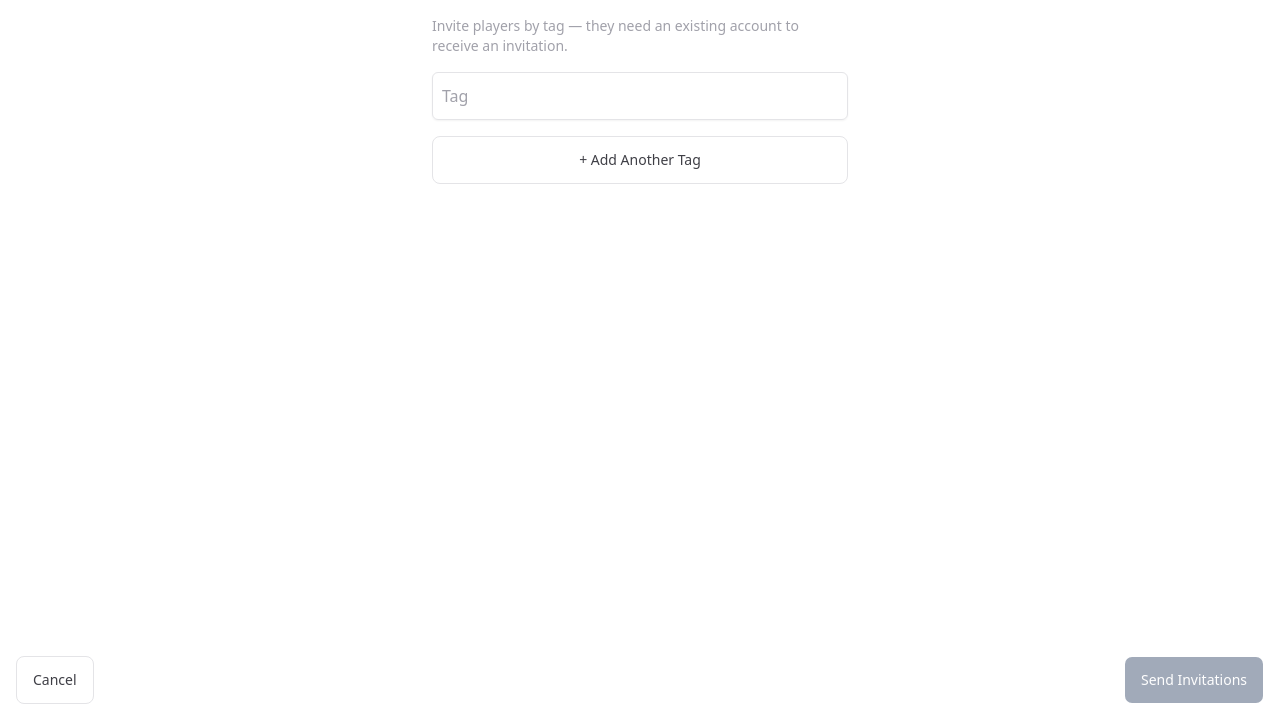
InvitePlayersPage › as the organiser › adds and removes tag rows, only sending non-empty ones
The width and height of the screenshot is (1280, 720).
Click the button "+ Add Another Tag" at (640, 160), box [432, 136, 848, 184]
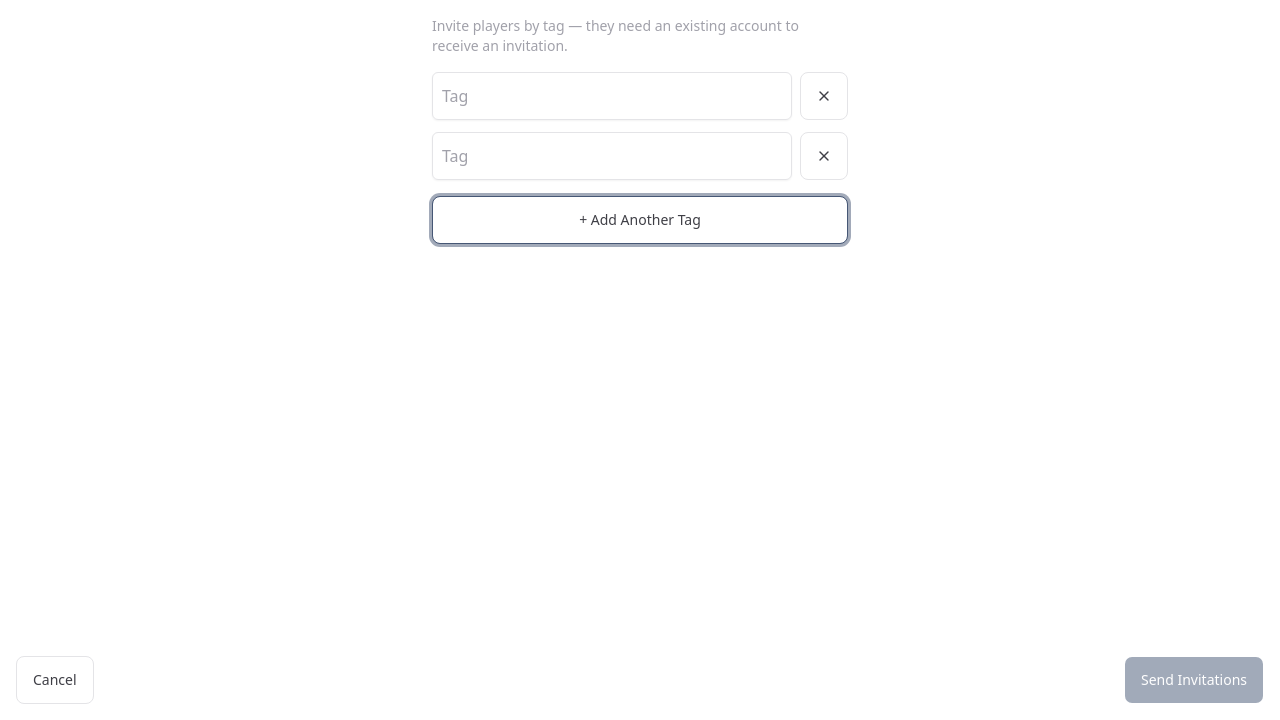
Expected: the number of fields labelled "Tag" is 2
Type "monkey-duster" into the 1st field labelled "Tag" at (612, 96), box [432, 72, 792, 120]
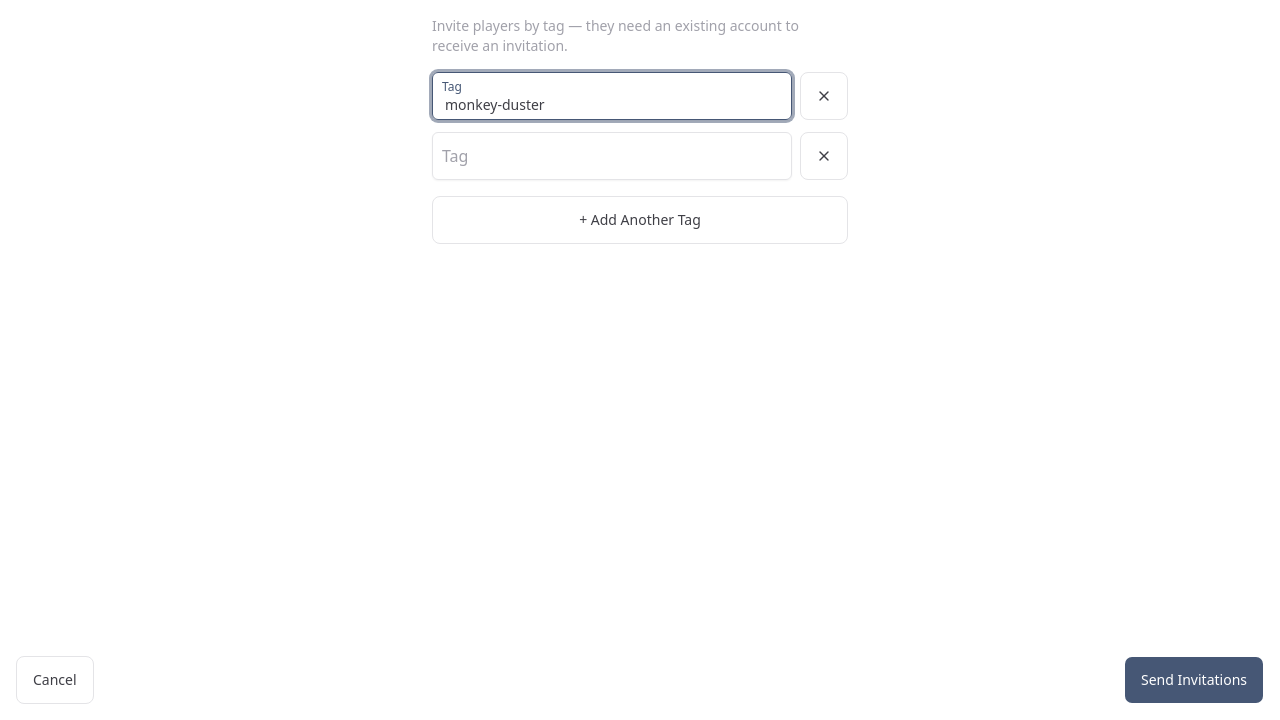
Click the button "Send Invitations" at (1194, 680), box [1124, 656, 1264, 704]
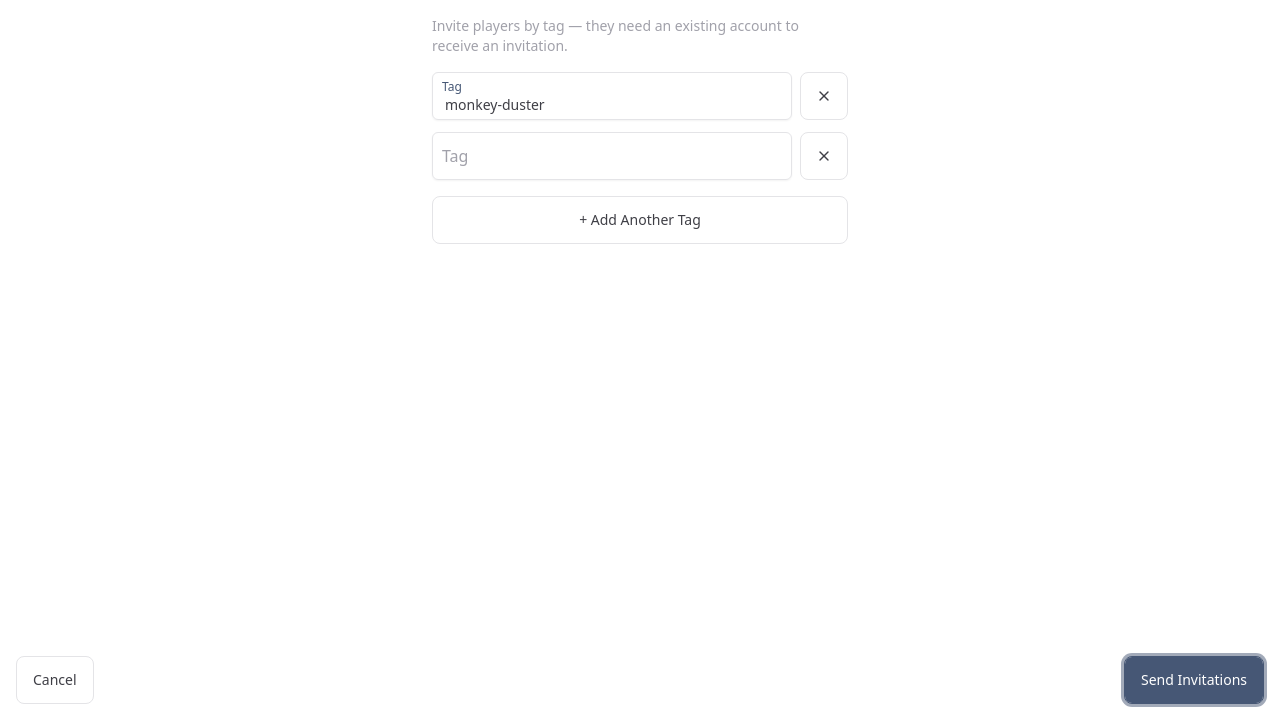
Click the button "+ Add Another Tag" at (640, 220), box [432, 196, 848, 244]
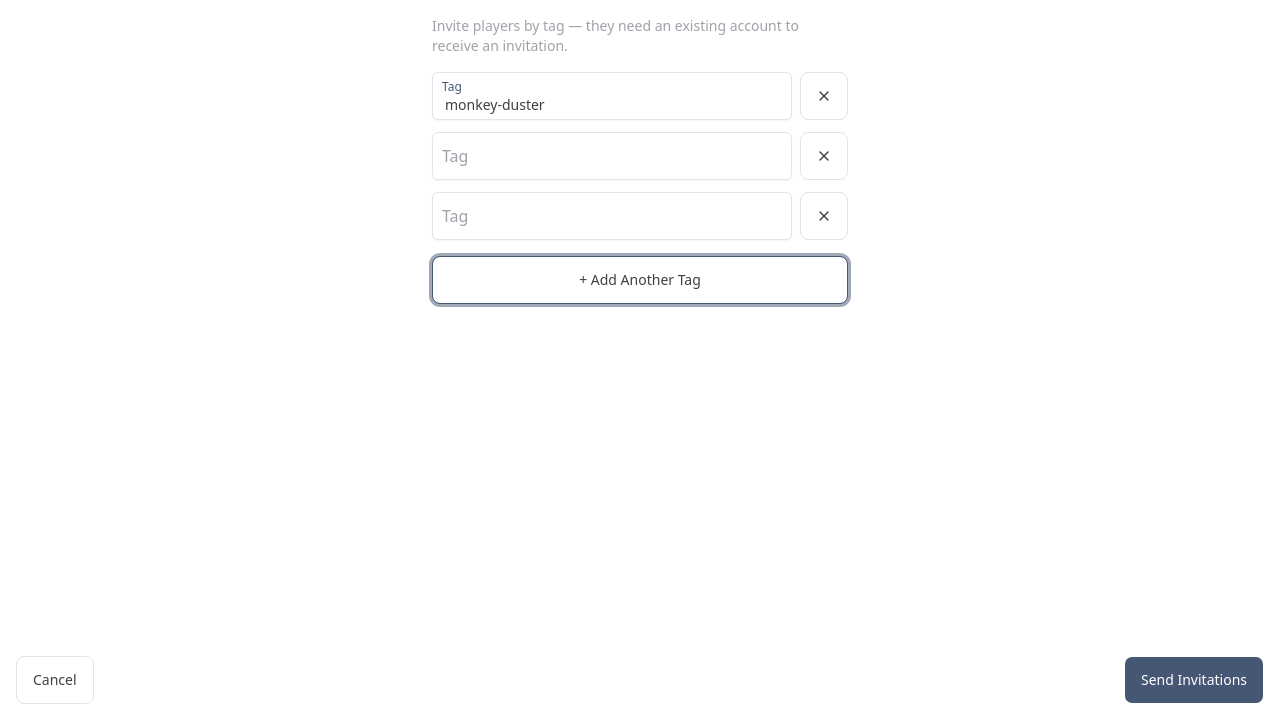
Expected: the number of buttons named "Remove tag" is 3
Click the 1st button named "Remove tag" at (824, 96), box [800, 72, 848, 120]
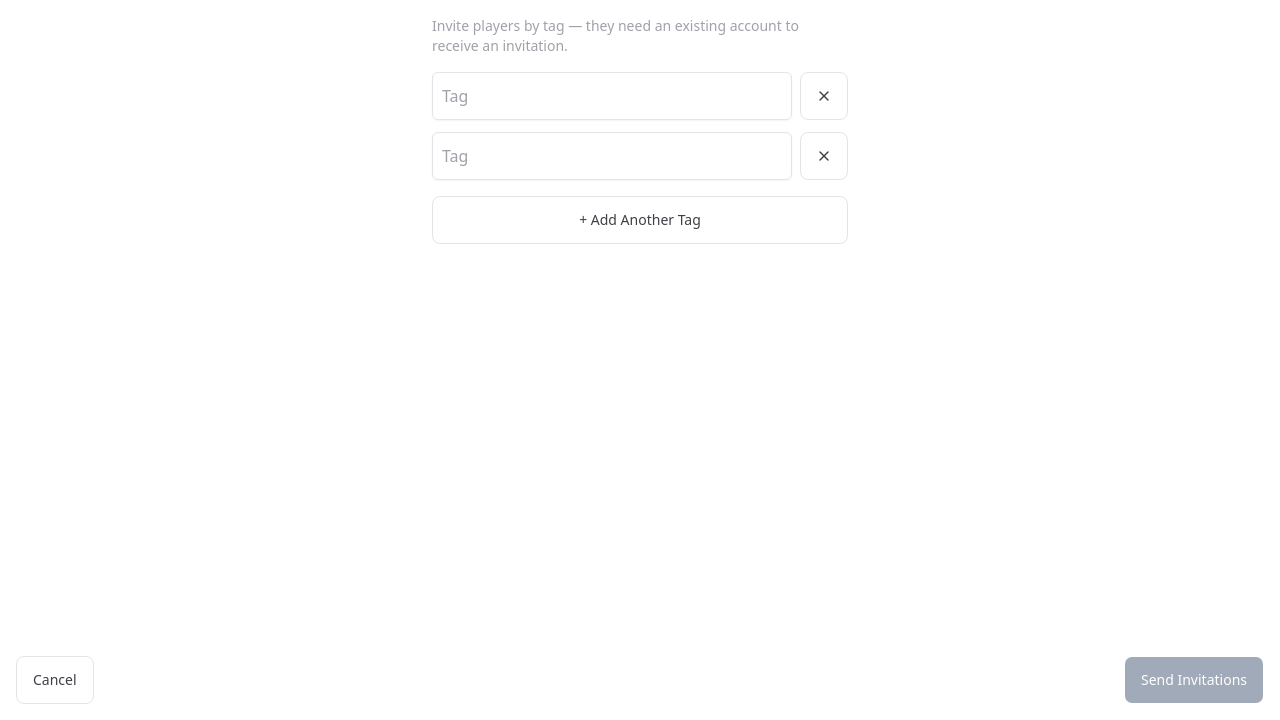
Expected: the number of fields labelled "Tag" is 2, [432, 72, 792, 120]; [432, 132, 792, 180]
